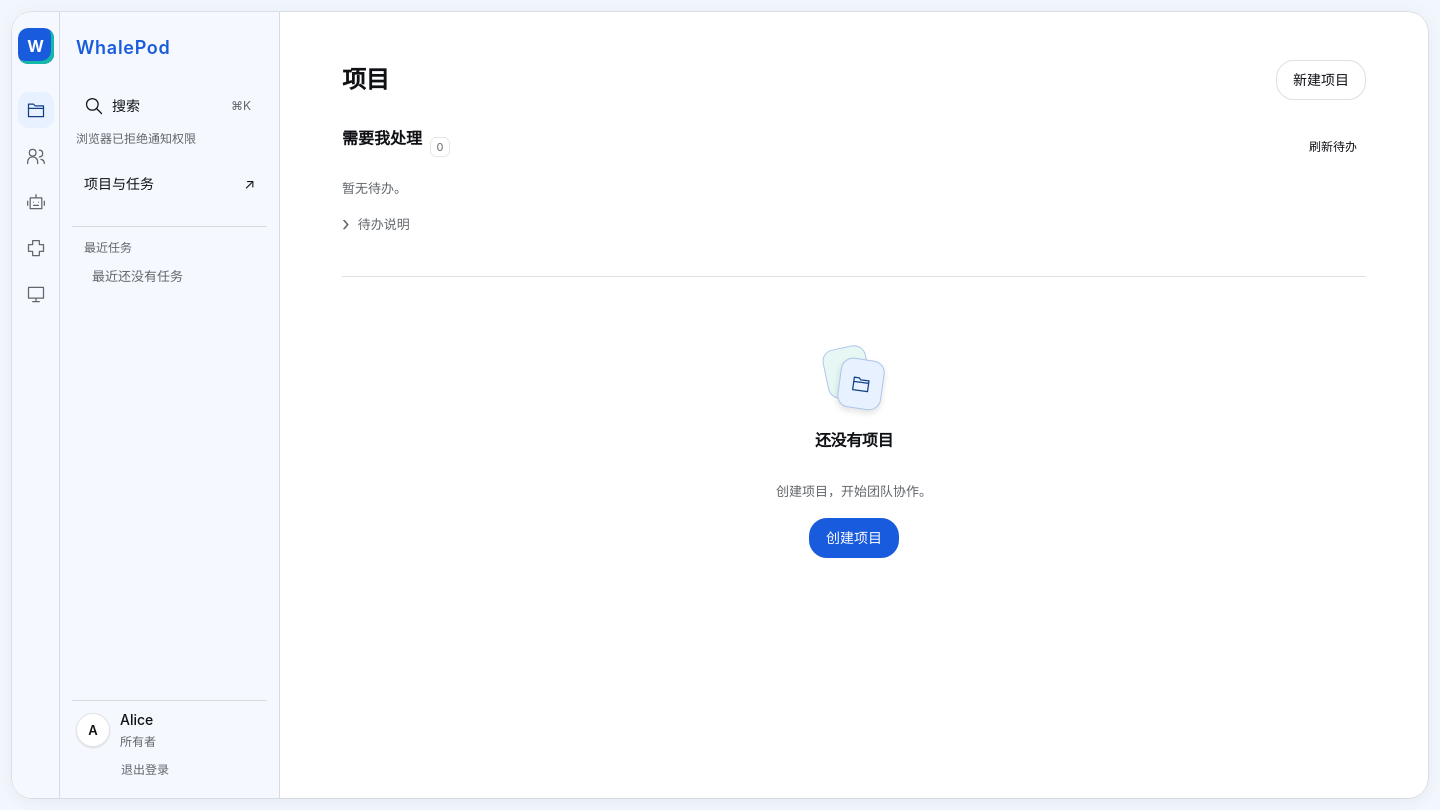
P1-423 workbench interactions › search has an explicit close action and restores the invoking focus
Click the button "搜索 ⌘K": [170, 106] box [72,86,267,126]
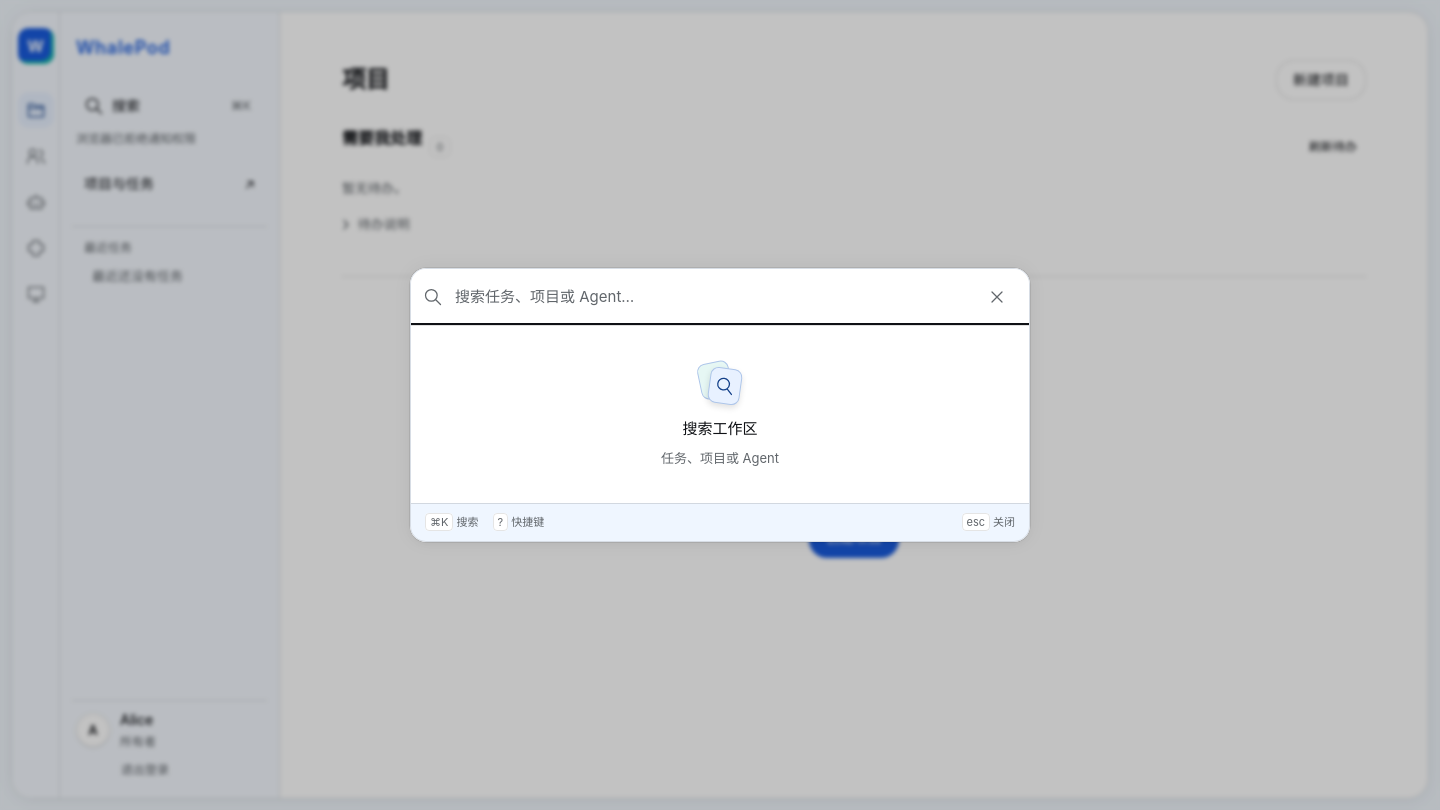
Press Tab
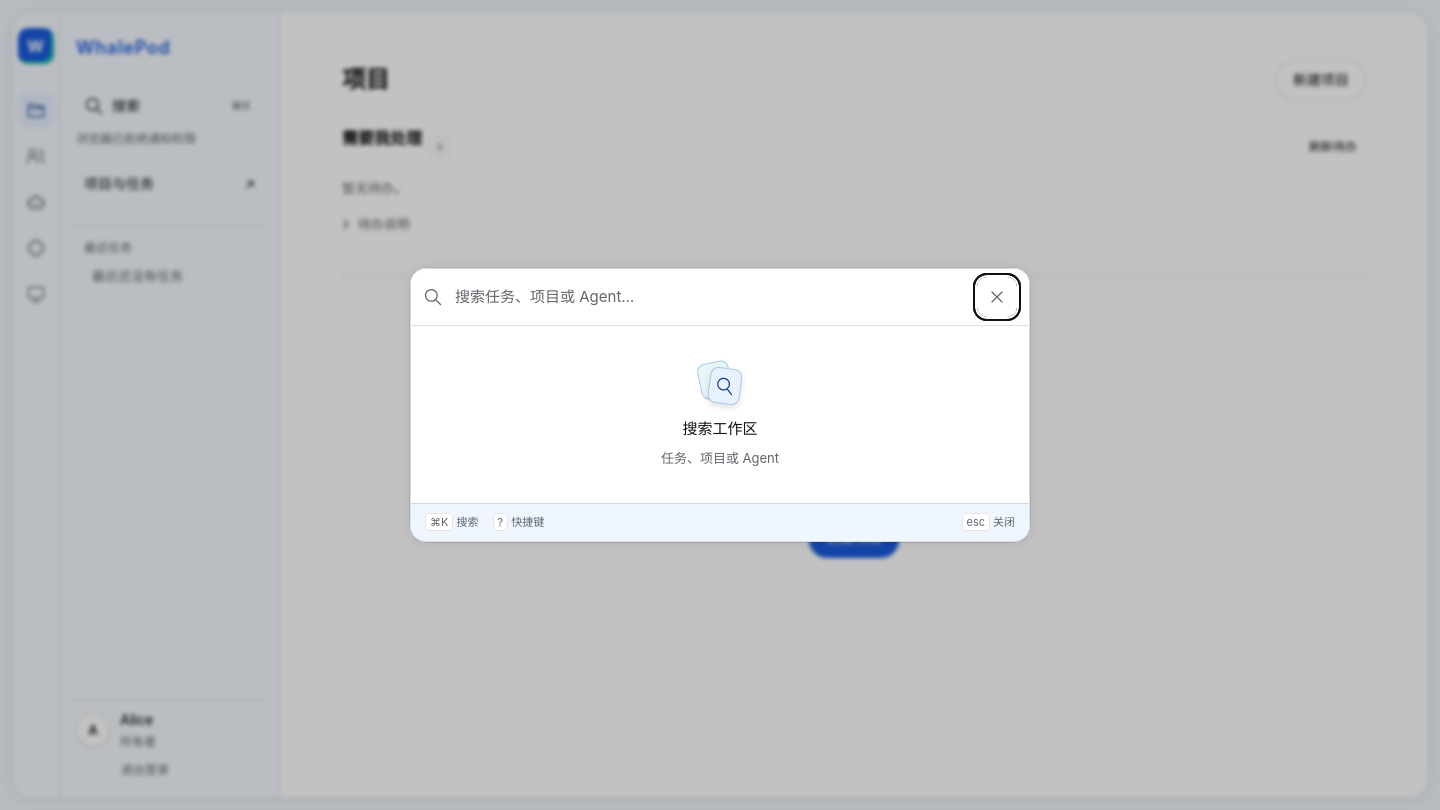
Press Enter
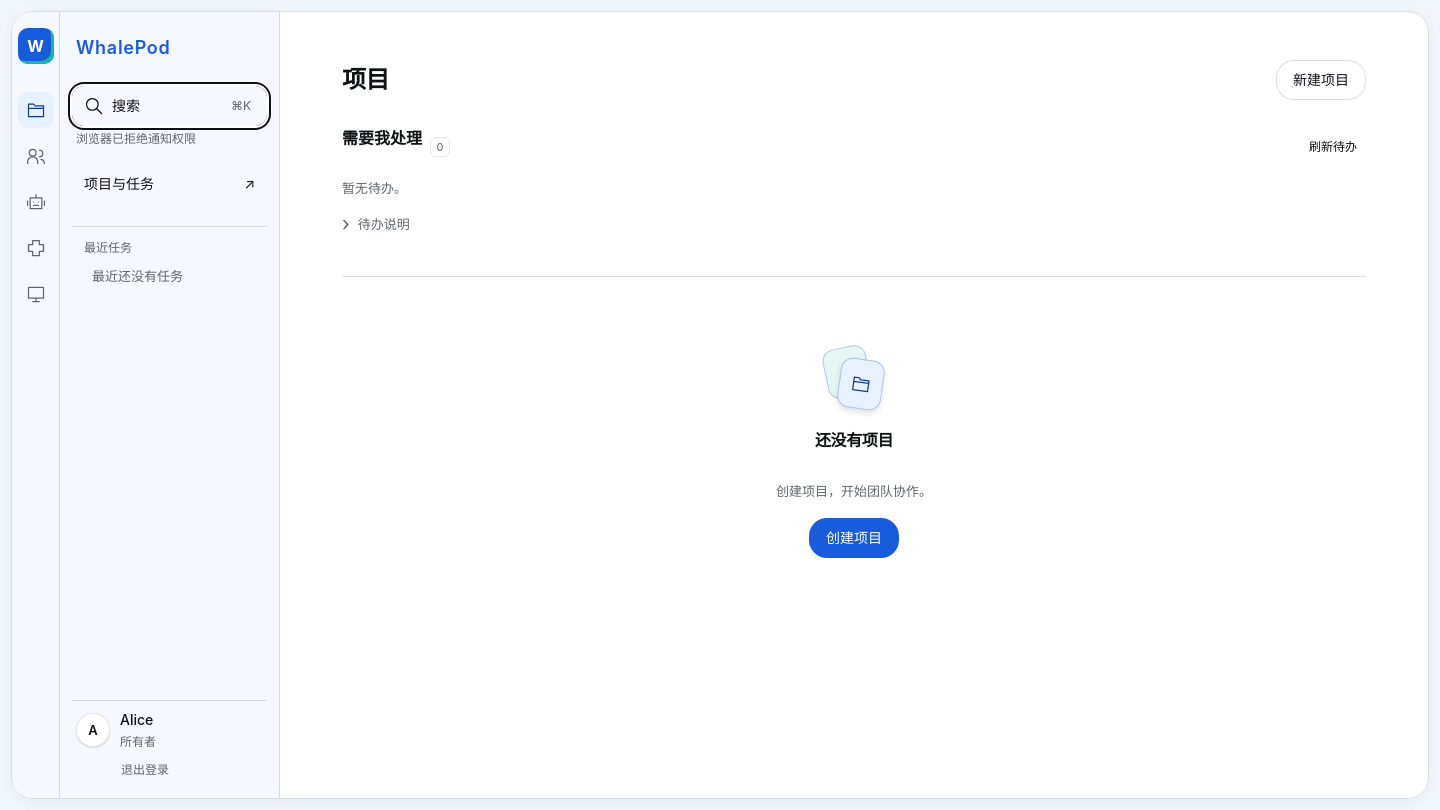
Now the dialog is gone
